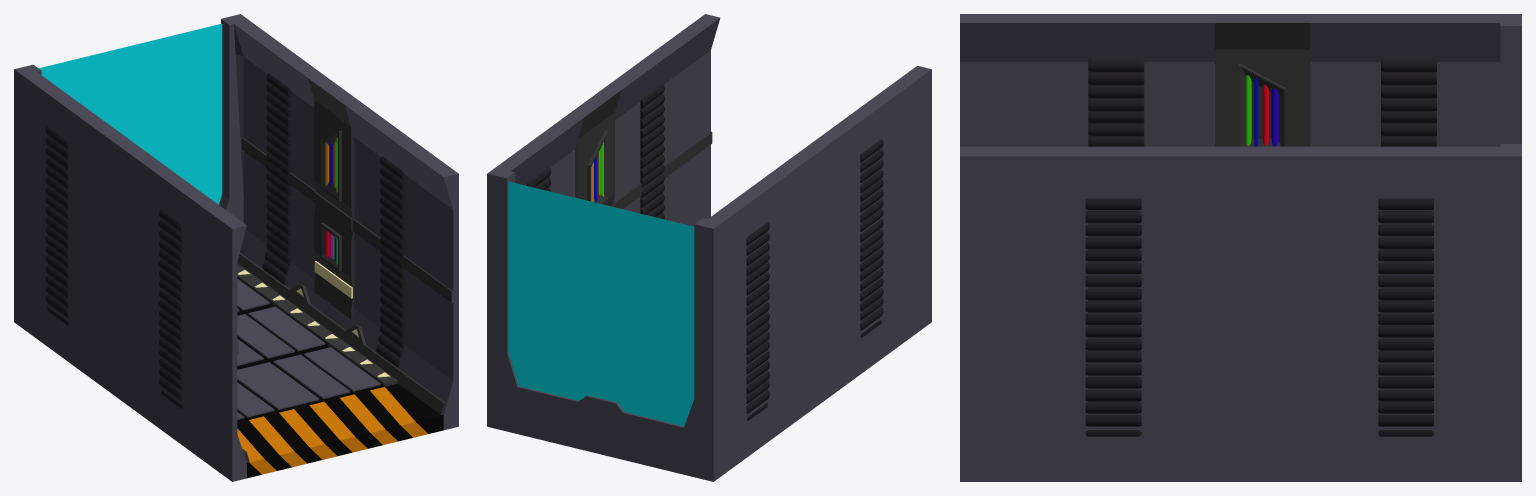
Rendered from arena.fbx.
3 renders of one model, left to right at view 1: azimuth 30°, elevation 25°; view 2: azimuth 150°, elevation 25°; view 3: azimuth 270°, elevation 25°, orthographic. The views are drawn at different scales.
Visible parts, largest first — view 1: Cube.001, Cylinder.073, Cylinder.012; view 2: Cube.001, Cylinder.073, Cylinder.012; view 3: Cube.001, Cylinder.073, Cylinder.012.
Boxes of the visible parts, x1,y1,x2,y2 form: Cube.001: [14, 14, 458, 481]; Cylinder.073: [45, 73, 404, 408]; Cylinder.012: [325, 137, 337, 264]; Cube.001: [487, 14, 931, 481]; Cylinder.073: [526, 84, 883, 421]; Cylinder.012: [591, 142, 603, 201]; Cube.001: [960, 14, 1521, 481]; Cylinder.073: [1085, 58, 1436, 436]; Cylinder.012: [1246, 75, 1278, 146].
Bounding box in the file's own units: 1525 × 1596 × 2496.
